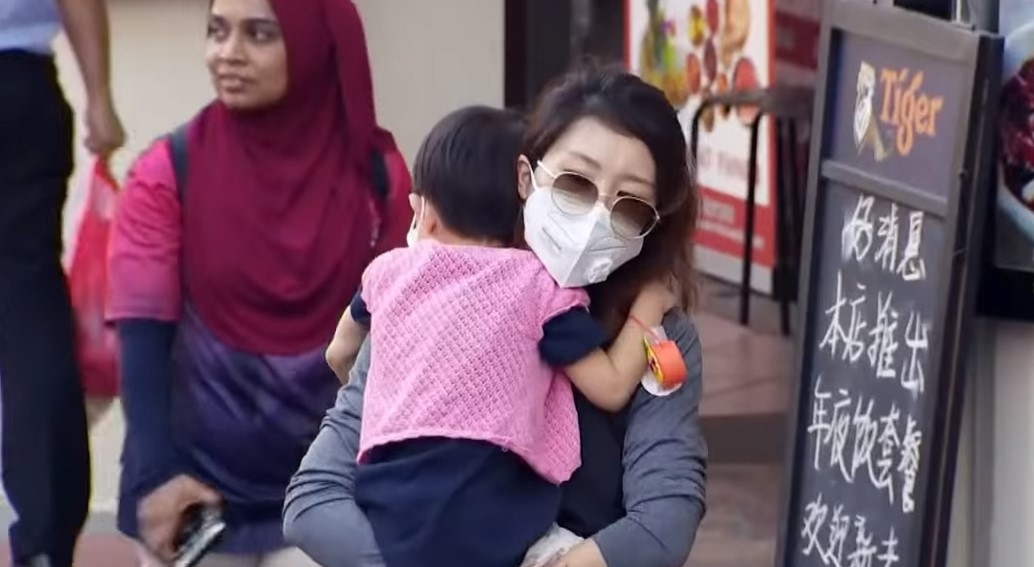face_no_mask: (205, 1, 290, 116)
face_with_mask: (520, 97, 660, 290)
